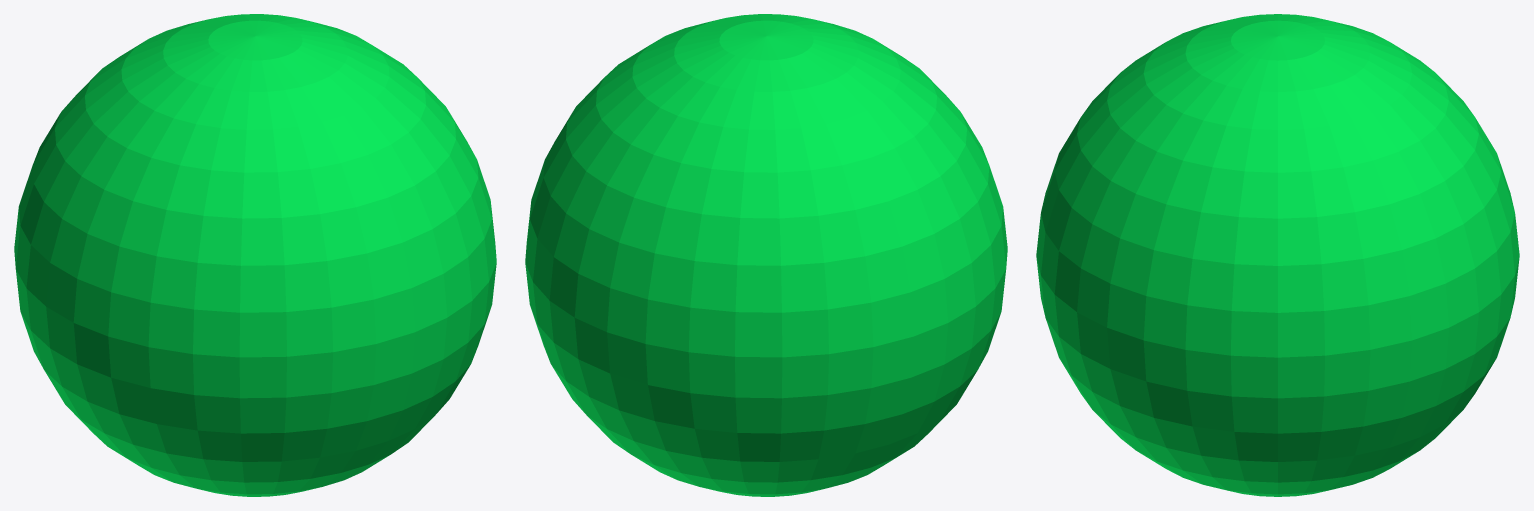
The model's file is watermelonCut.fbx.
3 views of the same model, side by side, from view 1: azimuth 30°, elevation 25°; view 2: azimuth 150°, elevation 25°; view 3: azimuth 270°, elevation 25° (orthographic).
Parts seen in each view (by area): view 1: Sphere.001, Sphere.002; view 2: Sphere.001, Sphere.002; view 3: Sphere.001, Sphere.002.
Part boxes in pixels (x1,y1,x2,y2): Sphere.001: (14, 14, 496, 357); Sphere.002: (15, 263, 496, 496); Sphere.001: (525, 14, 1007, 357); Sphere.002: (525, 263, 1006, 496); Sphere.001: (1036, 14, 1519, 357); Sphere.002: (1036, 256, 1519, 496).
Bounding box in the file's own units: 200 × 200 × 200.
